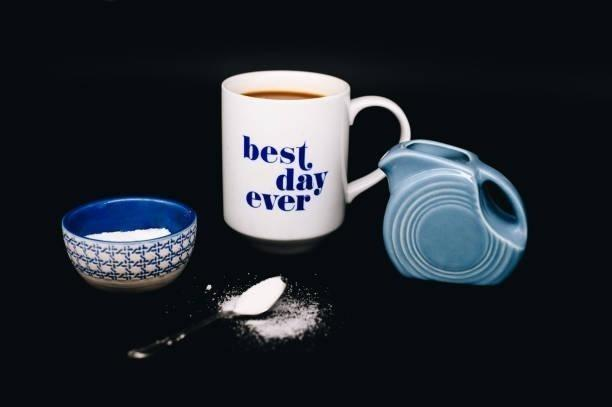cup-handle: (219, 69, 412, 255)
